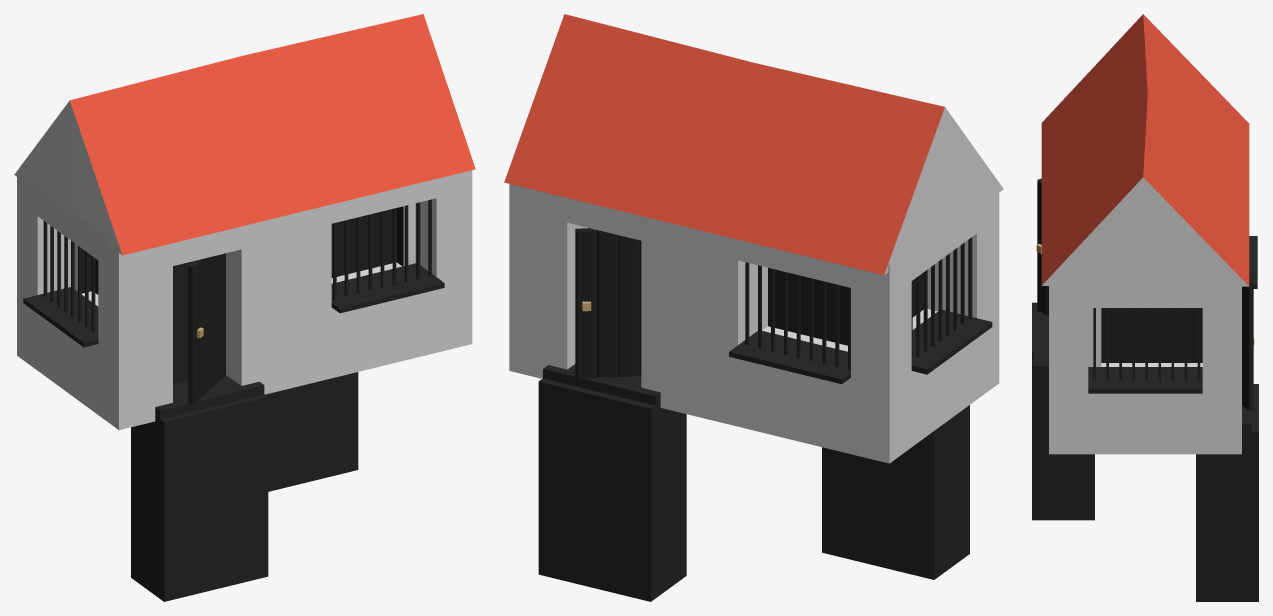
File: casa_procedural_relleno_3.fbx
3 renders of one model, left to right at view 1: azimuth 30°, elevation 25°; view 2: azimuth 150°, elevation 25°; view 3: azimuth 270°, elevation 25°, orthographic. The views are drawn at different scales.
Visible parts, largest first — view 1: casa procedural_relleno_3; view 2: casa procedural_relleno_3; view 3: casa procedural_relleno_3.
Part boxes in pixels (box(x1,y1,x2,y2)): casa procedural_relleno_3: box(14, 14, 475, 601); casa procedural_relleno_3: box(504, 14, 1003, 601); casa procedural_relleno_3: box(1032, 14, 1258, 601).
Size of the model in its own units: 216 by 253 by 118.
